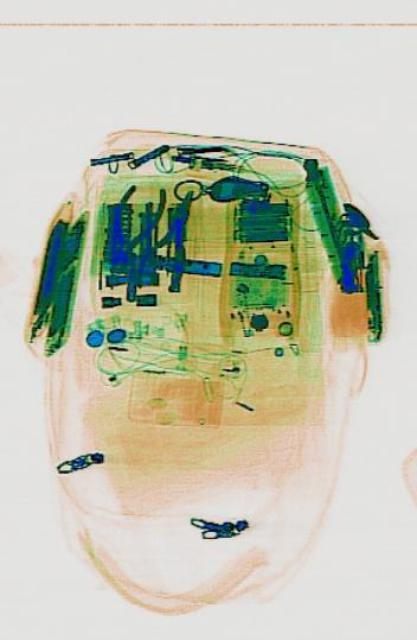Pliers: (91, 164, 169, 294), (129, 173, 204, 307)
